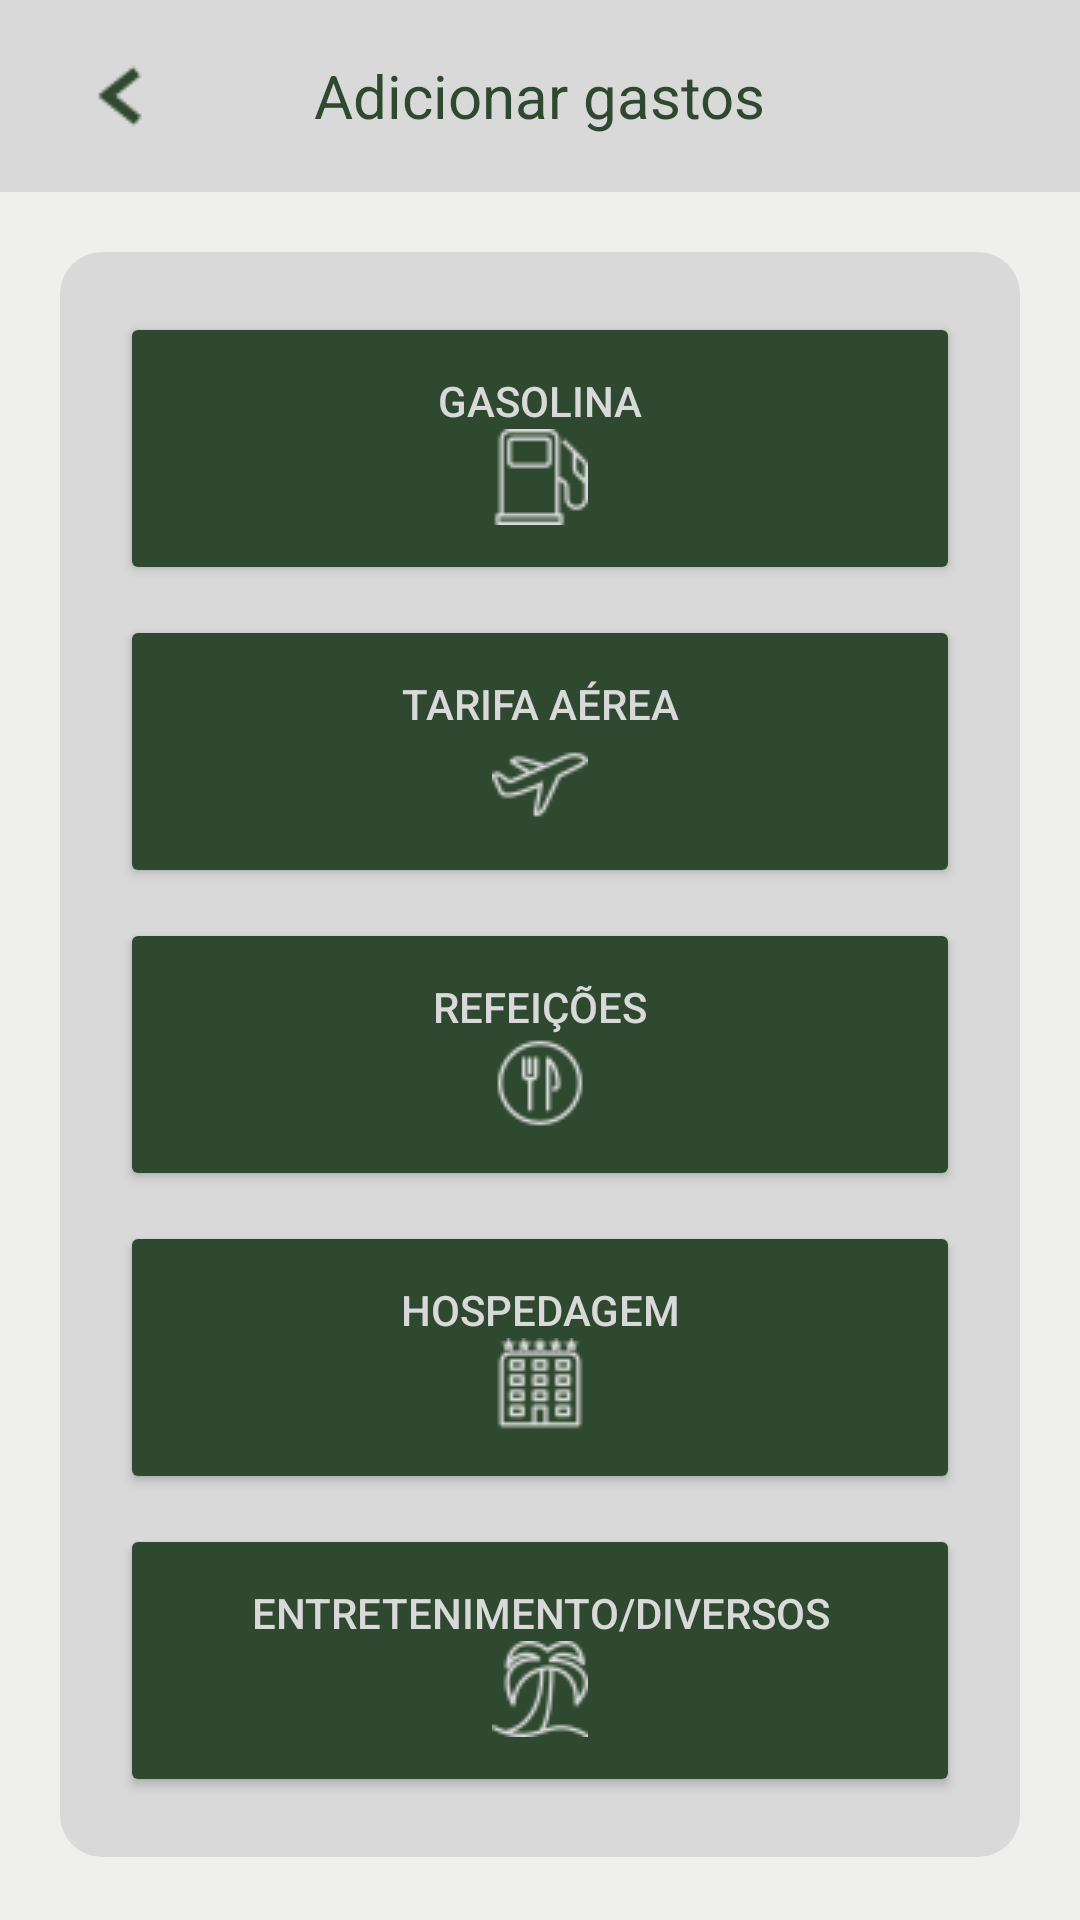

Where icons sit on this 1080×1920 app screen, as (x1, y1, x2, y2):
Voltar: (98, 66, 142, 126)
